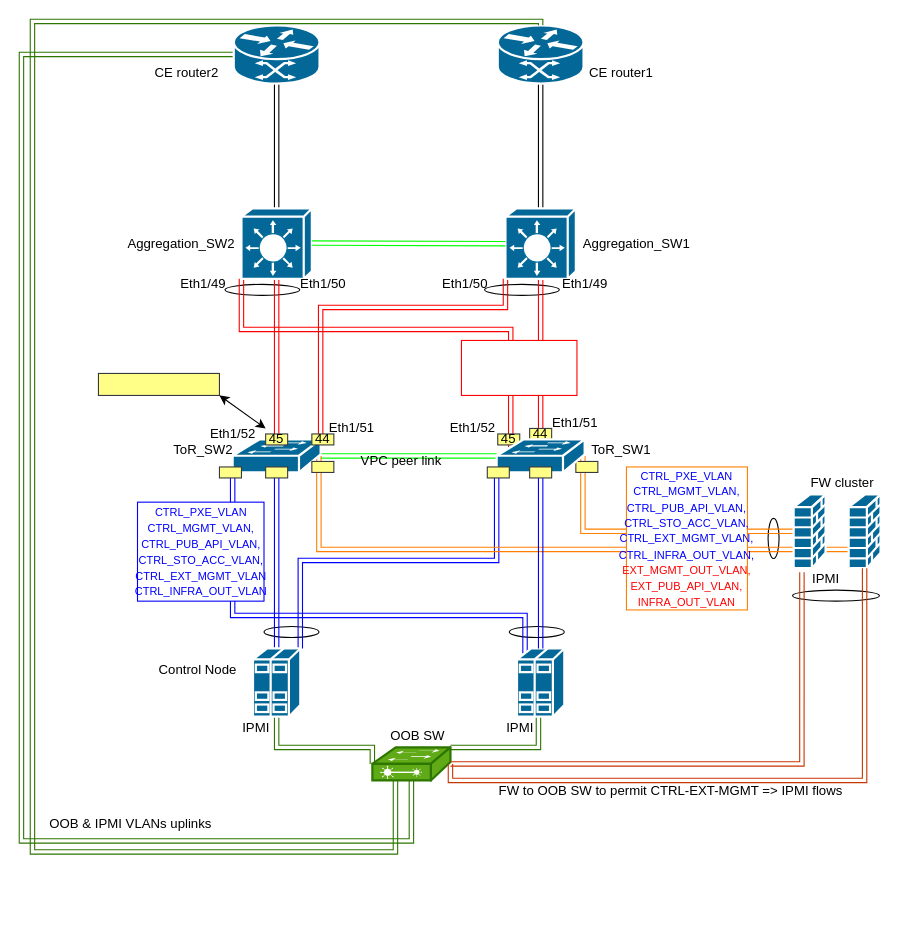
This 901x932 diagram has some shape labels left out. The shapes that lost their labels are listed below. From the top down, each one's box as (x1, y1, x2, y2) in pixels, then its label:
(97, 372, 219, 395): vPC member ports
(460, 339, 577, 395): EXT_MGMT_OUT_VLAN, EXT_PUB_API_VLAN, INFRA_OUT_VLAN
